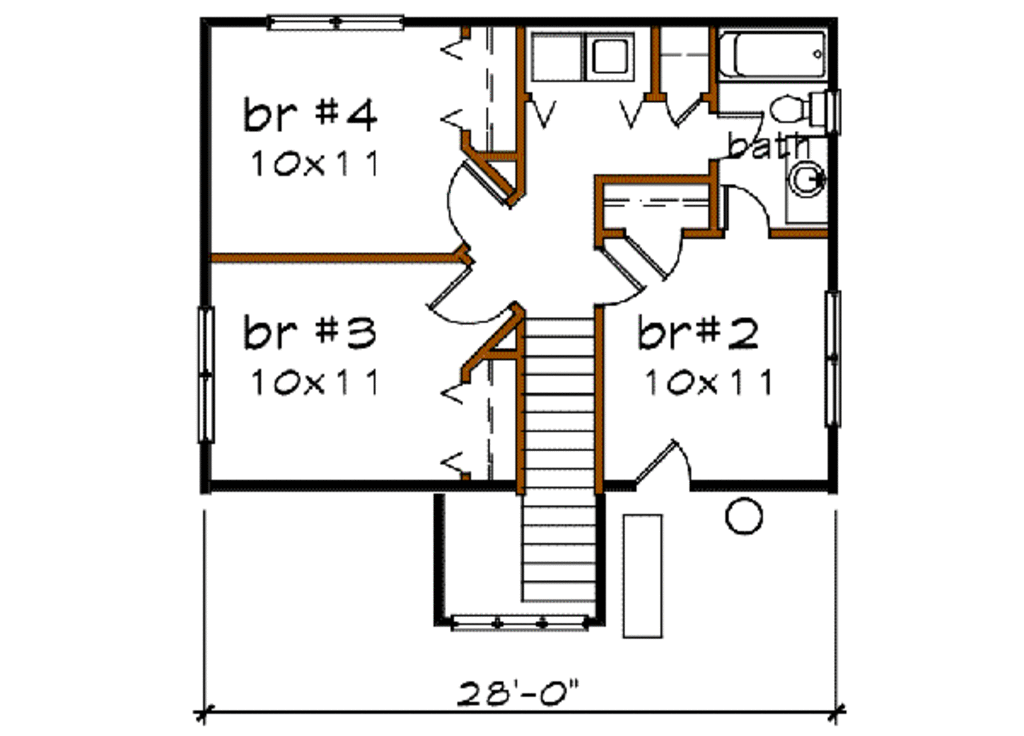door: (439, 161, 510, 242), (425, 263, 519, 323), (631, 439, 703, 492), (594, 244, 648, 311), (629, 226, 681, 284), (722, 185, 768, 238), (719, 113, 763, 162), (667, 90, 704, 127)
large_sink: (768, 90, 837, 129)
small_sink: (782, 151, 829, 222)
stairs: (525, 316, 609, 606)
tub: (721, 34, 830, 80)
window: (185, 299, 225, 444), (447, 613, 589, 640), (261, 11, 404, 36), (820, 287, 840, 425)
